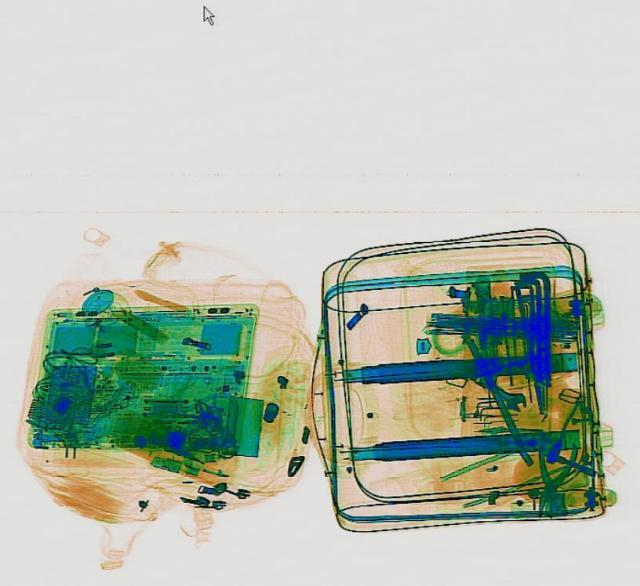Wrench: (471, 371, 529, 412)
